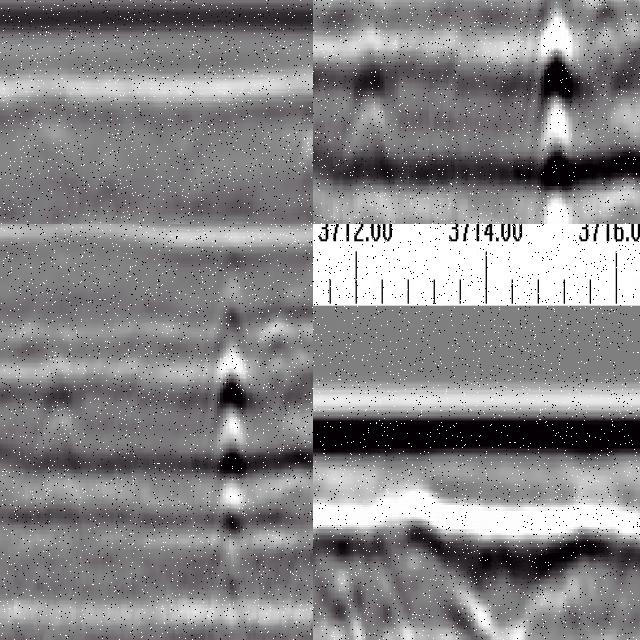crack: (209, 243, 250, 601), (535, 1, 575, 225)
loose: (314, 493, 598, 640)
